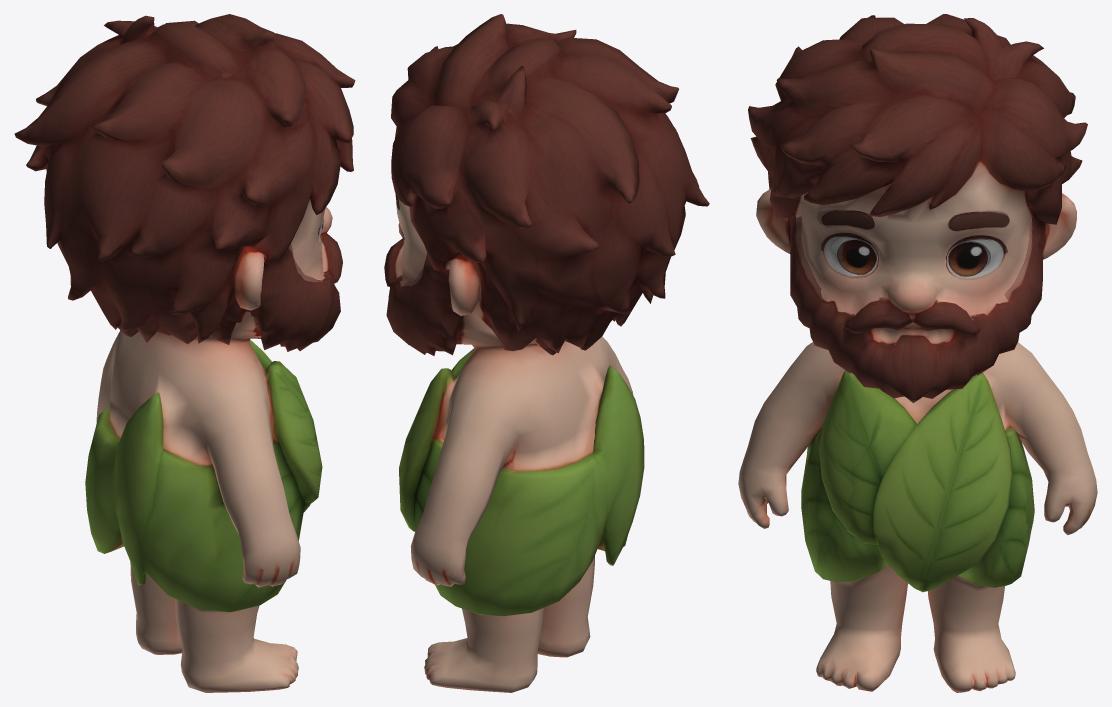
The model's file is adam-lowpoly.glb.
3 renders of one model, left to right at view 1: azimuth 30°, elevation 25°; view 2: azimuth 150°, elevation 25°; view 3: azimuth 270°, elevation 25°, orthographic. The views are drawn at different scales.
Visible parts, largest first — view 1: tripo_node_711ae66f-2389-4c9f-8a52-789b3eee29f3; view 2: tripo_node_711ae66f-2389-4c9f-8a52-789b3eee29f3; view 3: tripo_node_711ae66f-2389-4c9f-8a52-789b3eee29f3.
Part boxes in pixels (x1=…): tripo_node_711ae66f-2389-4c9f-8a52-789b3eee29f3: x1=14, y1=14, x2=355, y2=692; tripo_node_711ae66f-2389-4c9f-8a52-789b3eee29f3: x1=384, y1=14, x2=709, y2=692; tripo_node_711ae66f-2389-4c9f-8a52-789b3eee29f3: x1=738, y1=14, x2=1097, y2=692.
Bounding box in the file's own units: 0.4668 × 0.998 × 0.5137.
1 material, 1 textured.
